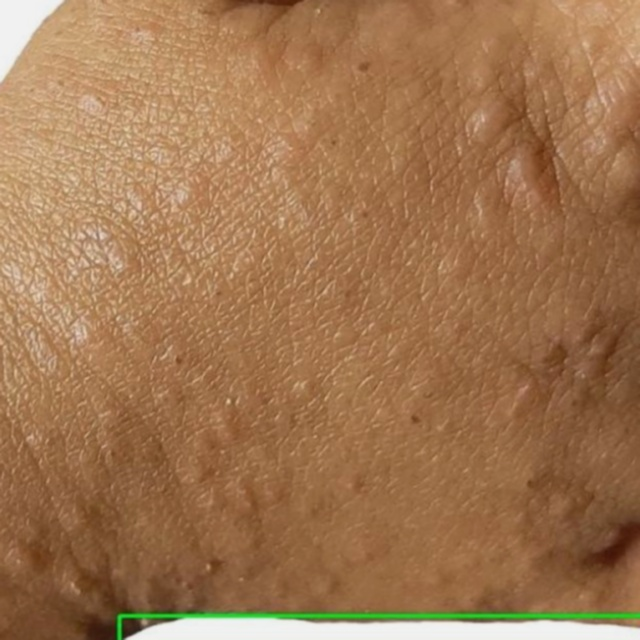Contact Dermatitis: (119, 615, 639, 639)
